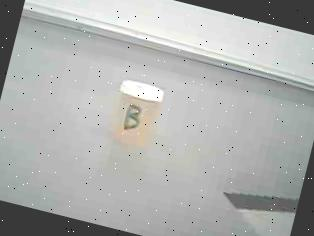Bottle B: (104, 74, 174, 160)
